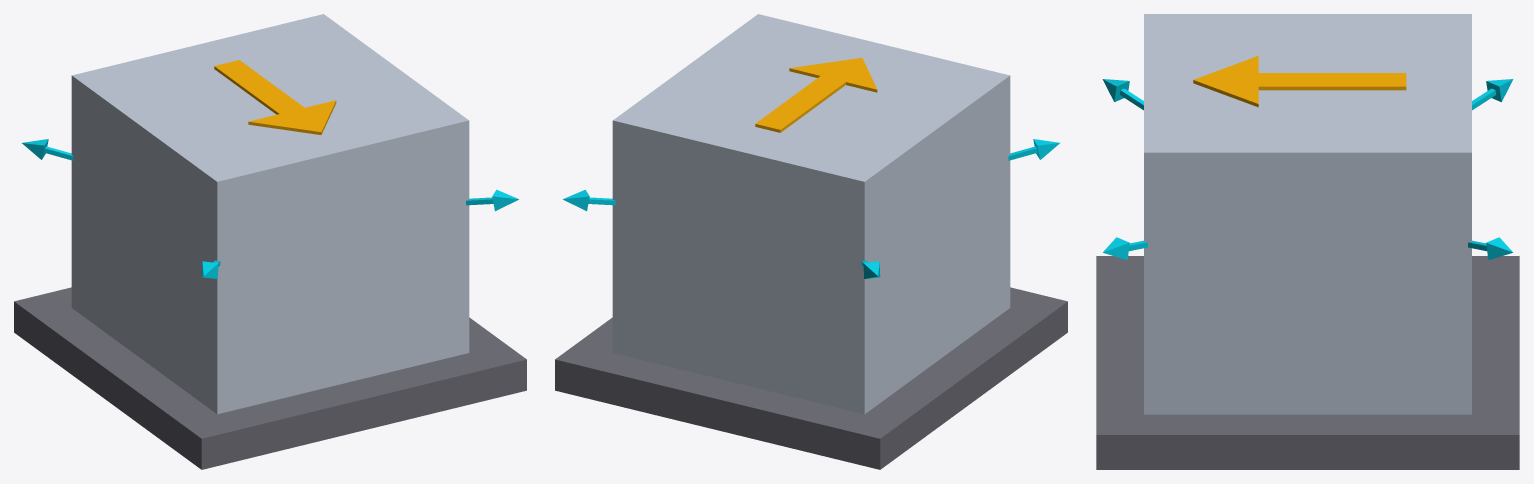
3 renders of one model, left to right at view 1: azimuth 30°, elevation 25°; view 2: azimuth 150°, elevation 25°; view 3: azimuth 270°, elevation 25°, orthographic. The views are drawn at different scales.
Visible parts, largest first — view 1: frame, bumpers, front, camera back-right; view 2: frame, bumpers, front, camera front-right; view 3: frame, bumpers, front, camera front-right, camera back-right, camera front-left, camera back-left.
Part boxes in pixels (bbox=[...]): frame: bbox=[71, 14, 469, 414]; bumpers: bbox=[14, 287, 526, 469]; front: bbox=[214, 60, 336, 134]; camera back-right: bbox=[22, 139, 73, 160]; frame: bbox=[612, 14, 1010, 414]; bumpers: bbox=[555, 287, 1067, 469]; front: bbox=[755, 57, 877, 132]; camera front-right: bbox=[1008, 139, 1059, 160]; frame: bbox=[1144, 14, 1471, 414]; bumpers: bbox=[1096, 256, 1519, 469]; front: bbox=[1193, 56, 1406, 107]; camera front-right: bbox=[1102, 79, 1143, 110]; camera back-right: bbox=[1472, 79, 1513, 110]; camera front-left: bbox=[1103, 237, 1147, 260]; camera back-left: bbox=[1468, 237, 1512, 260].
Size of the model in its own units: 0.9017 by 0.7065 by 0.9017.
